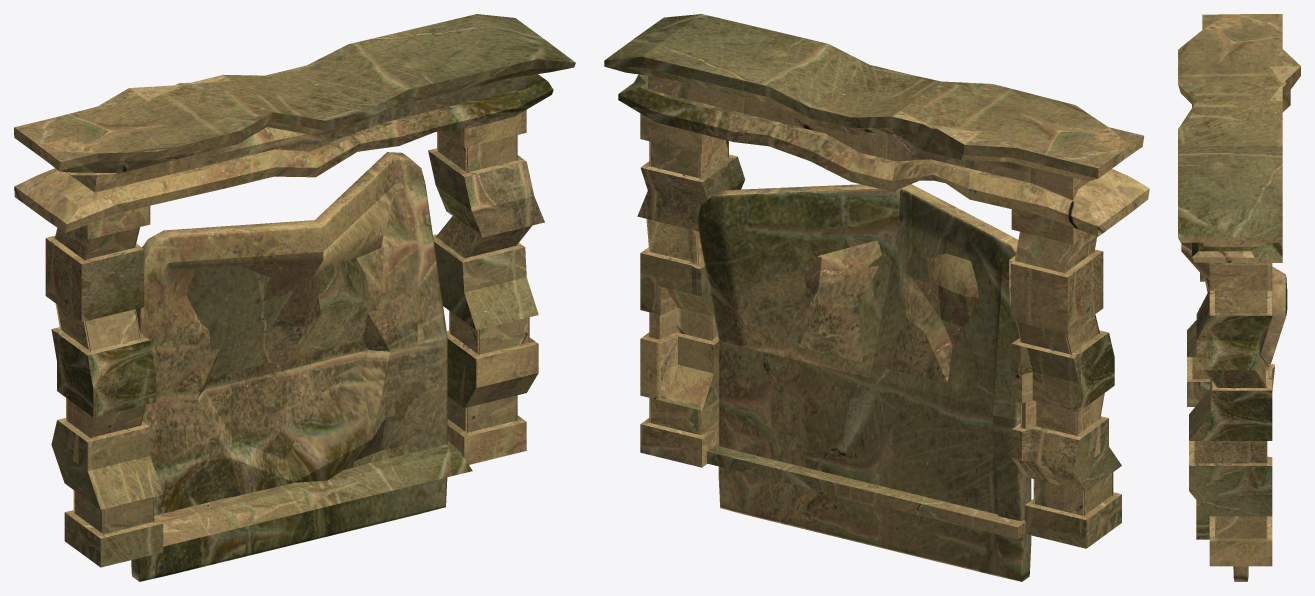
The model's file is DoorWarpedAnimated(Textured).fbx.
The picture shows the model from 3 angles, left to right: view 1: azimuth 30°, elevation 25°; view 2: azimuth 150°, elevation 25°; view 3: azimuth 270°, elevation 25°; orthographic projection. The views are drawn at different scales.
Visible parts, largest first — view 1: pCube5, pCube3, pCube1, pCube2, pCube4; view 2: pCube5, pCube3, pCube1, pCube2, pCube4; view 3: pCube3, pCube2, pCube5, pCube1, pCube4.
Part boxes in pixels (x1,y1,x2,y2): pCube5: [131, 152, 447, 581]; pCube3: [14, 14, 575, 232]; pCube1: [45, 205, 163, 567]; pCube2: [428, 110, 544, 464]; pCube4: [154, 441, 472, 546]; pCube5: [697, 184, 1031, 581]; pCube3: [604, 14, 1149, 236]; pCube1: [1009, 209, 1121, 548]; pCube2: [637, 113, 744, 467]; pCube4: [707, 443, 1025, 539]; pCube3: [1178, 14, 1300, 262]; pCube2: [1189, 262, 1274, 566]; pCube5: [1181, 242, 1287, 581]; pCube1: [1187, 273, 1210, 406]; pCube4: [1196, 500, 1209, 539].
Bounding box in the file's own units: 19.23 × 16.86 × 4.71.
